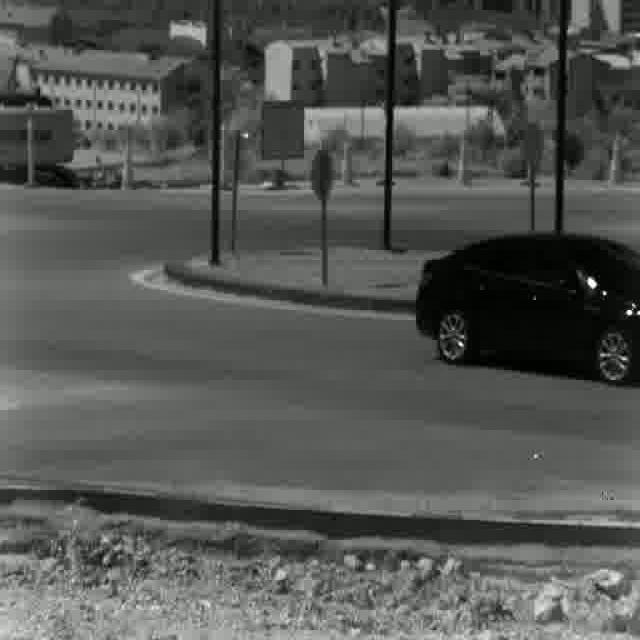Car: (410, 232, 640, 382)
